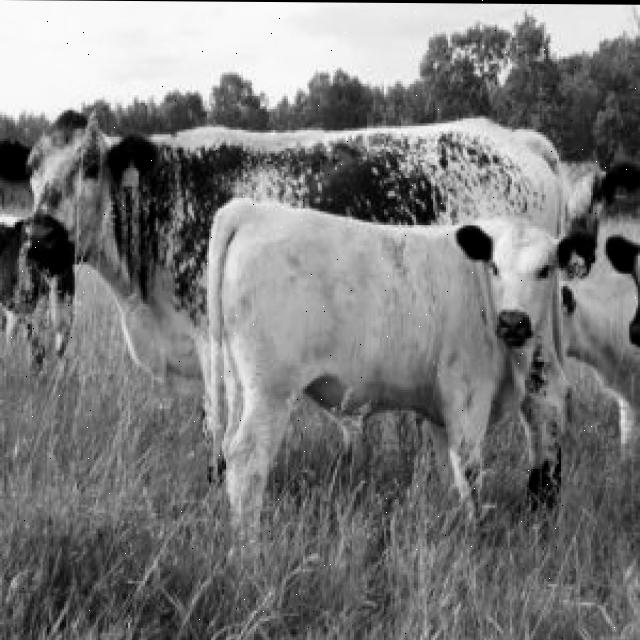Cow: (198, 189, 596, 563)
